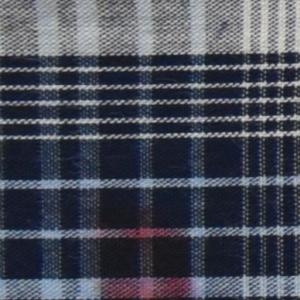Stain: (94, 201, 198, 300), (213, 18, 234, 46)
